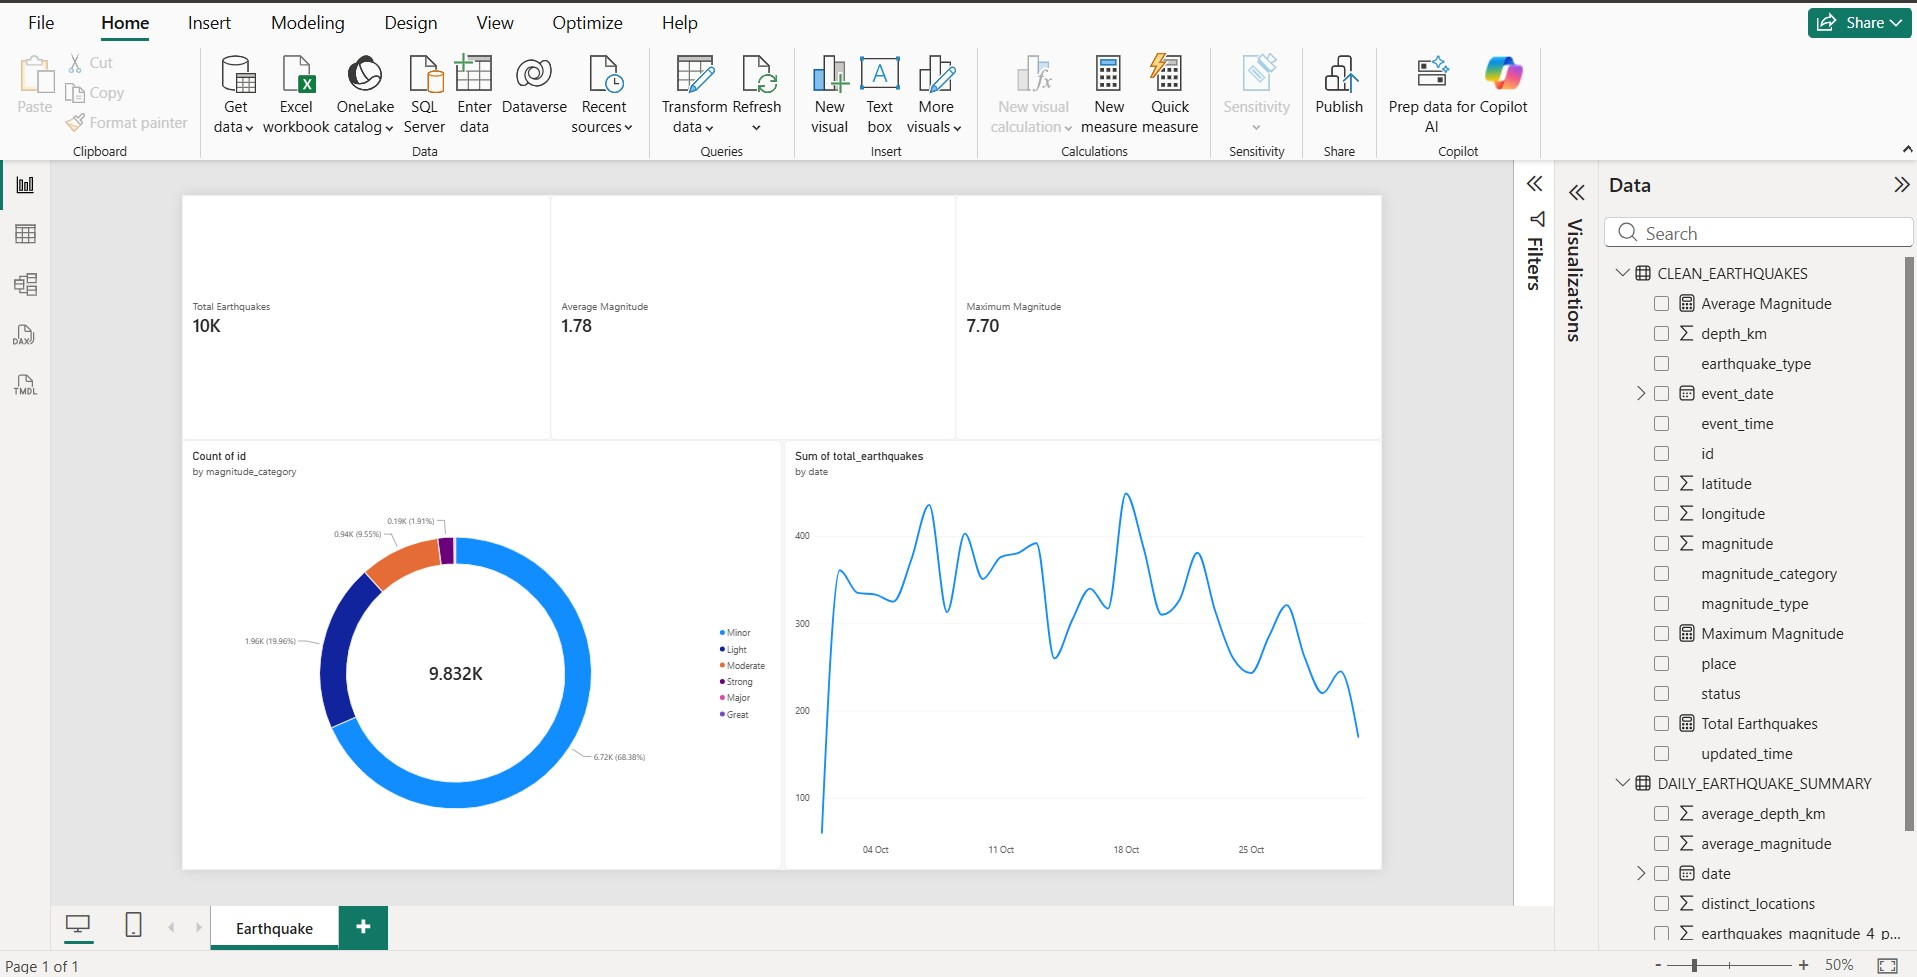

Layout of this report page (visuals, bound fields, positions):
{"tool":"powerbi","page":{"name":"Page 1","canvas":[1920,1080],"ordinal":0},"visuals":[{"type":"cardVisual","fields":{"Data":["CLEAN_EARTHQUAKES.Total Earthquakes"]},"box":[0,0,590.1,392.5],"z":0},{"type":"cardVisual","fields":{"Data":["CLEAN_EARTHQUAKES.Average Magnitude"]},"box":[590.1,0,648.1,392.5],"z":1},{"type":"cardVisual","fields":{"Data":["CLEAN_EARTHQUAKES.Maximum Magnitude"]},"box":[1238.2,0,682.3,392.5],"z":2},{"type":"donutChart","fields":{"Category":["CLEAN_EARTHQUAKES.magnitude_category"],"Y":["CountNonNull(CLEAN_EARTHQUAKES.id)"]},"box":[0,392.5,959,687.6],"z":3},{"type":"lineChart","fields":{"Category":["DAILY_EARTHQUAKE_SUMMARY.date"],"Y":["Sum(DAILY_EARTHQUAKE_SUMMARY.total_earthquakes)"]},"box":[964.2,392.5,956.3,687.6],"z":4}]}

Visuals, with their boxes on the page's 1920x1080 design canvas (x1, y1, x2, y2). These are canvas units, not pixel positions in the 1917x977 screenshot, which may show the page scaled, cropped or inside an application window:
cardVisual - CLEAN_EARTHQUAKES.Total Earthquakes: bbox=[0, 0, 590, 392]
cardVisual - CLEAN_EARTHQUAKES.Average Magnitude: bbox=[590, 0, 1238, 392]
cardVisual - CLEAN_EARTHQUAKES.Maximum Magnitude: bbox=[1238, 0, 1920, 392]
donutChart - CLEAN_EARTHQUAKES.magnitude_category x CountNonNull(CLEAN_EARTHQUAKES.id): bbox=[0, 392, 959, 1080]
lineChart - DAILY_EARTHQUAKE_SUMMARY.date x Sum(DAILY_EARTHQUAKE_SUMMARY.total_earthquakes): bbox=[964, 392, 1920, 1080]
